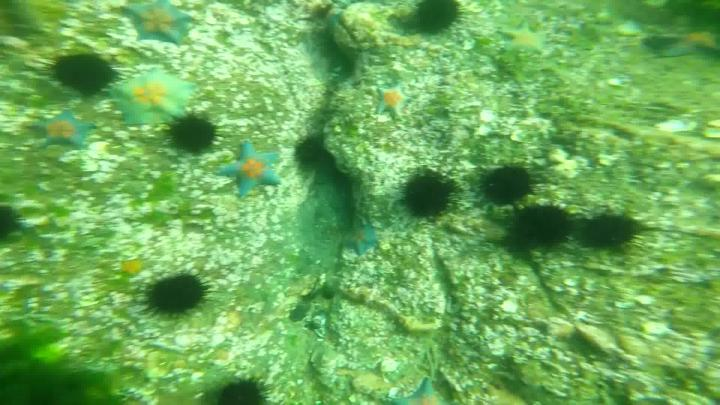echinus: (144, 271, 209, 320), (506, 207, 575, 250), (403, 172, 460, 221), (478, 164, 540, 207), (579, 210, 646, 249), (55, 52, 115, 94), (165, 113, 217, 156), (414, 2, 462, 32), (218, 380, 275, 405), (298, 142, 327, 162), (1, 206, 16, 244)
scallop: (576, 320, 624, 357), (550, 151, 580, 178), (659, 117, 701, 134), (483, 109, 501, 125)
starfish: (118, 63, 194, 129), (221, 138, 285, 199), (126, 2, 191, 51), (27, 111, 90, 150), (505, 19, 548, 59), (340, 222, 374, 255), (402, 380, 446, 405), (377, 82, 409, 116)
